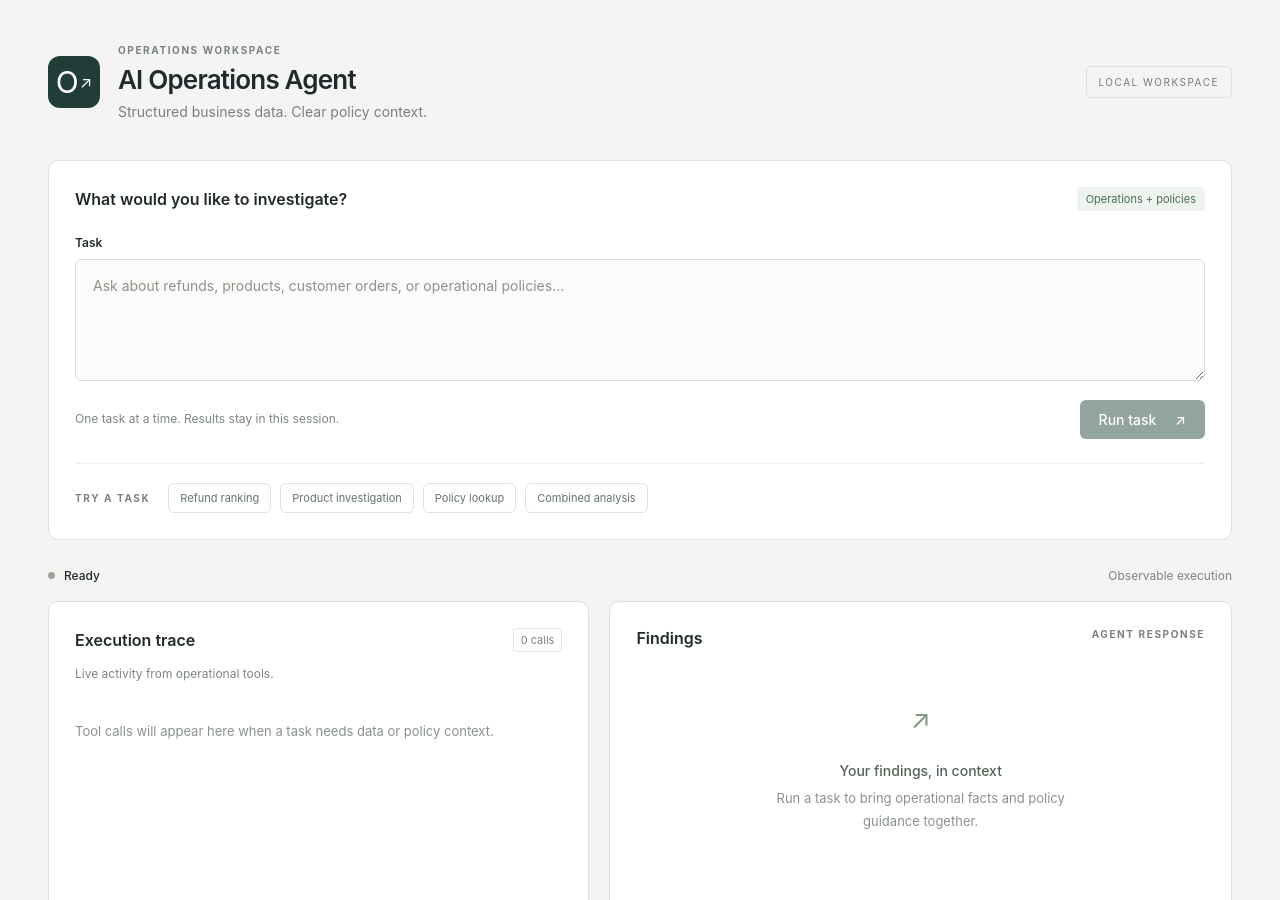
Test: shows live tool state, safe failure and final answer
The image size is (1280, 900).
Replace the text in the text box labelled "Task" with "Investigate refunds". click: (640, 320)
box: top-left (75, 259), bottom-right (1205, 381)
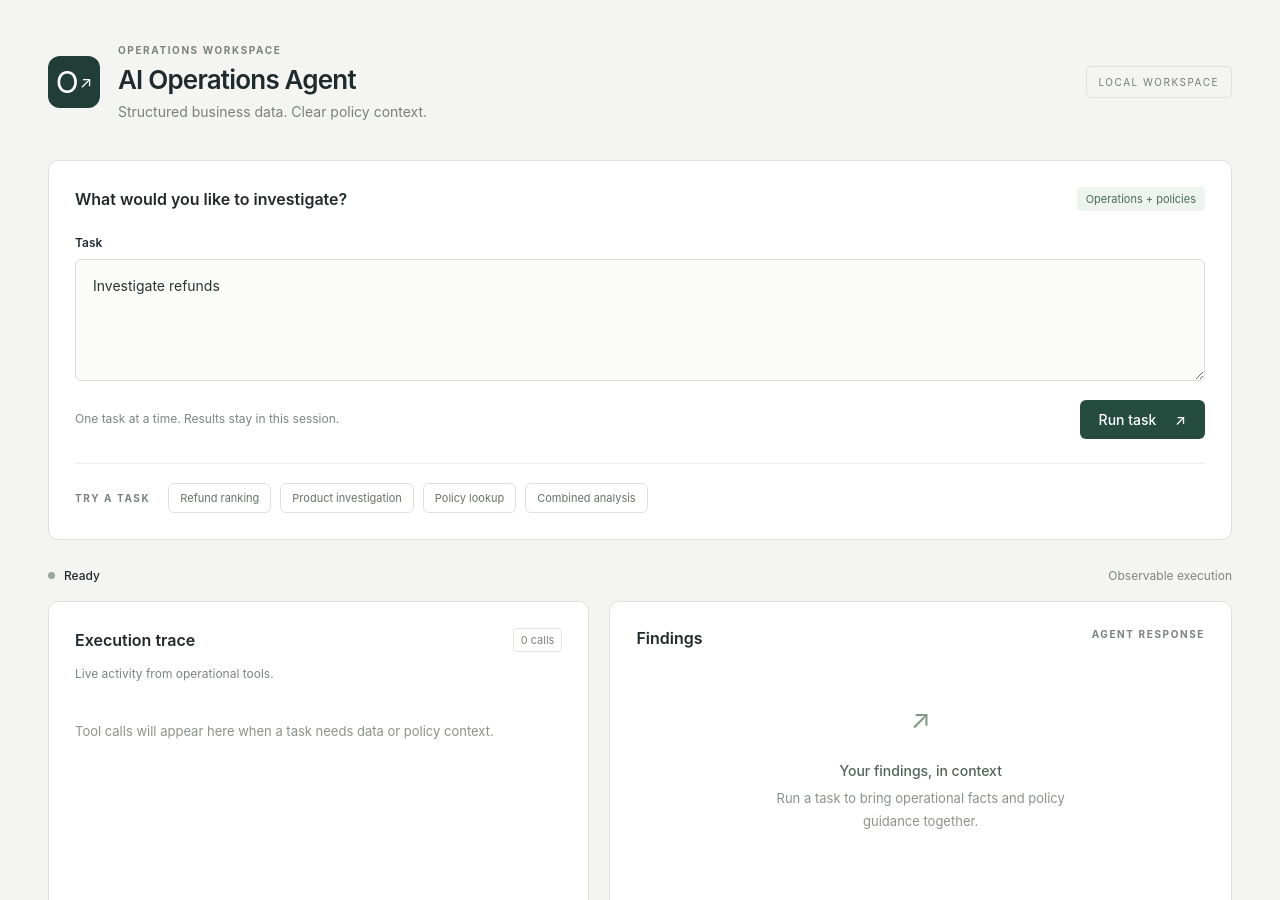
Click the button "Run task ↗". click: (1142, 419)
box: top-left (1080, 400), bottom-right (1205, 439)
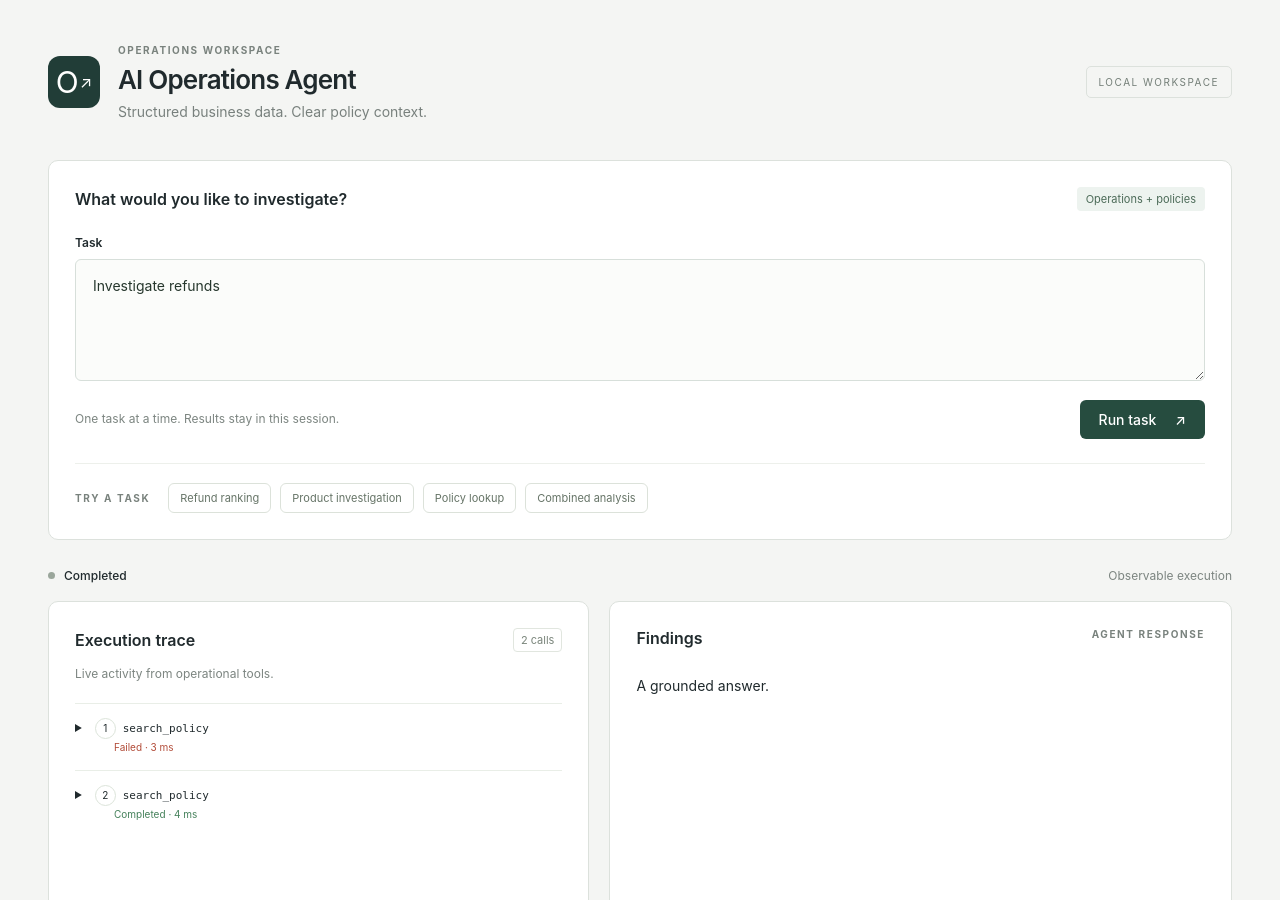
Result: the 1st text "search_policy" is shown at top-left (123, 722), bottom-right (209, 735)
Result: the text "Failed · 3 ms" is shown at top-left (114, 741), bottom-right (174, 753)
Result: the text "Completed · 4 ms" is shown at top-left (114, 808), bottom-right (197, 820)
